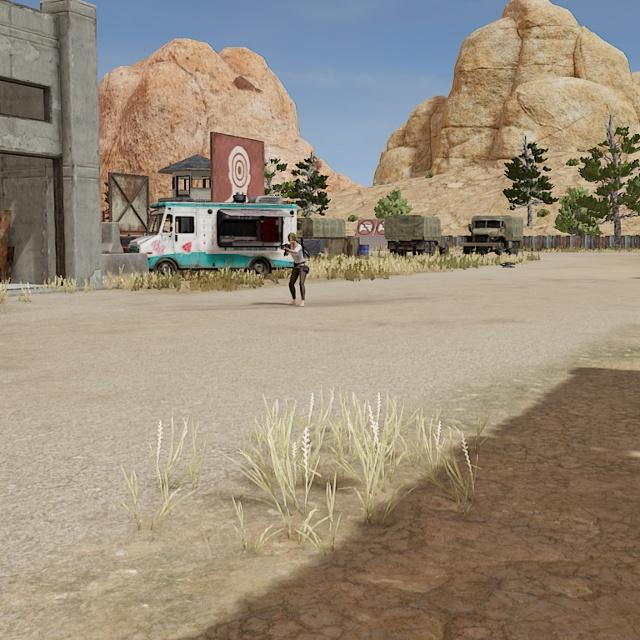head: (287, 232, 297, 246)
people: (283, 232, 309, 308)
